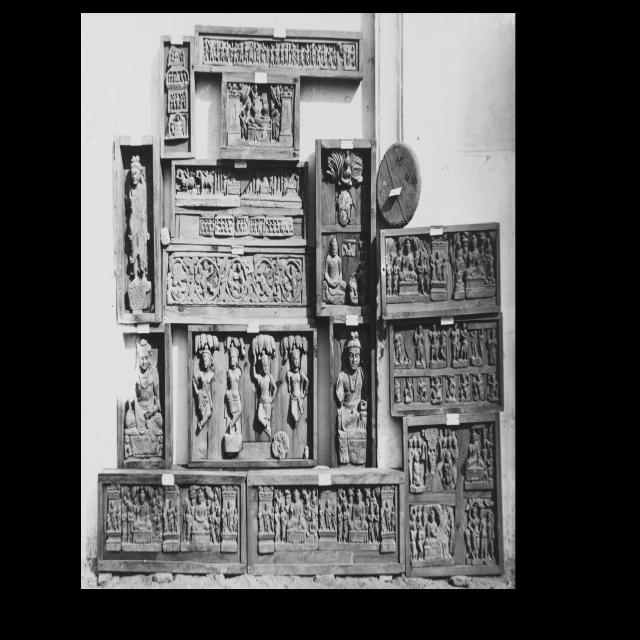buddha-sitting: (124, 345, 164, 468), (335, 331, 367, 465), (322, 236, 347, 304), (422, 507, 450, 560), (465, 233, 486, 298), (399, 238, 419, 296), (191, 489, 210, 547), (286, 489, 306, 543), (465, 429, 485, 483), (348, 489, 368, 542), (134, 487, 151, 541), (338, 153, 352, 187), (174, 113, 182, 138)
buddha-sleeping: (248, 116, 272, 142)
buddha-standing: (125, 156, 151, 314), (226, 500, 235, 533), (323, 500, 332, 529)
